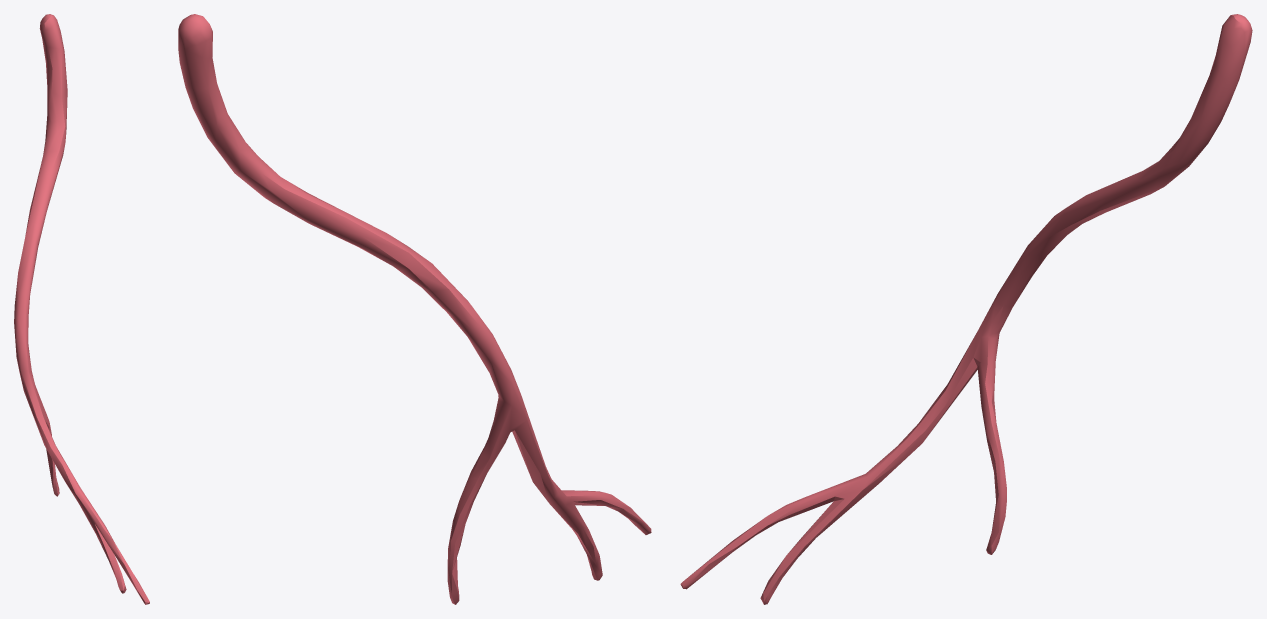
File: fma79538_fj5056.glb
The picture shows the model from 3 angles, left to right: view 1: azimuth 30°, elevation 25°; view 2: azimuth 150°, elevation 25°; view 3: azimuth 270°, elevation 25°; orthographic projection. The views are drawn at different scales.
Visible parts, largest first — view 1: FMA79538_FJ5056; view 2: FMA79538_FJ5056; view 3: FMA79538_FJ5056.
Part boxes in pixels (x1,y1,x2,y2): FMA79538_FJ5056: (14,14,149,604); FMA79538_FJ5056: (178,14,651,604); FMA79538_FJ5056: (680,14,1252,604).
Bounding box in the file's own units: 0.0116 × 0.0391 × 0.0312.
